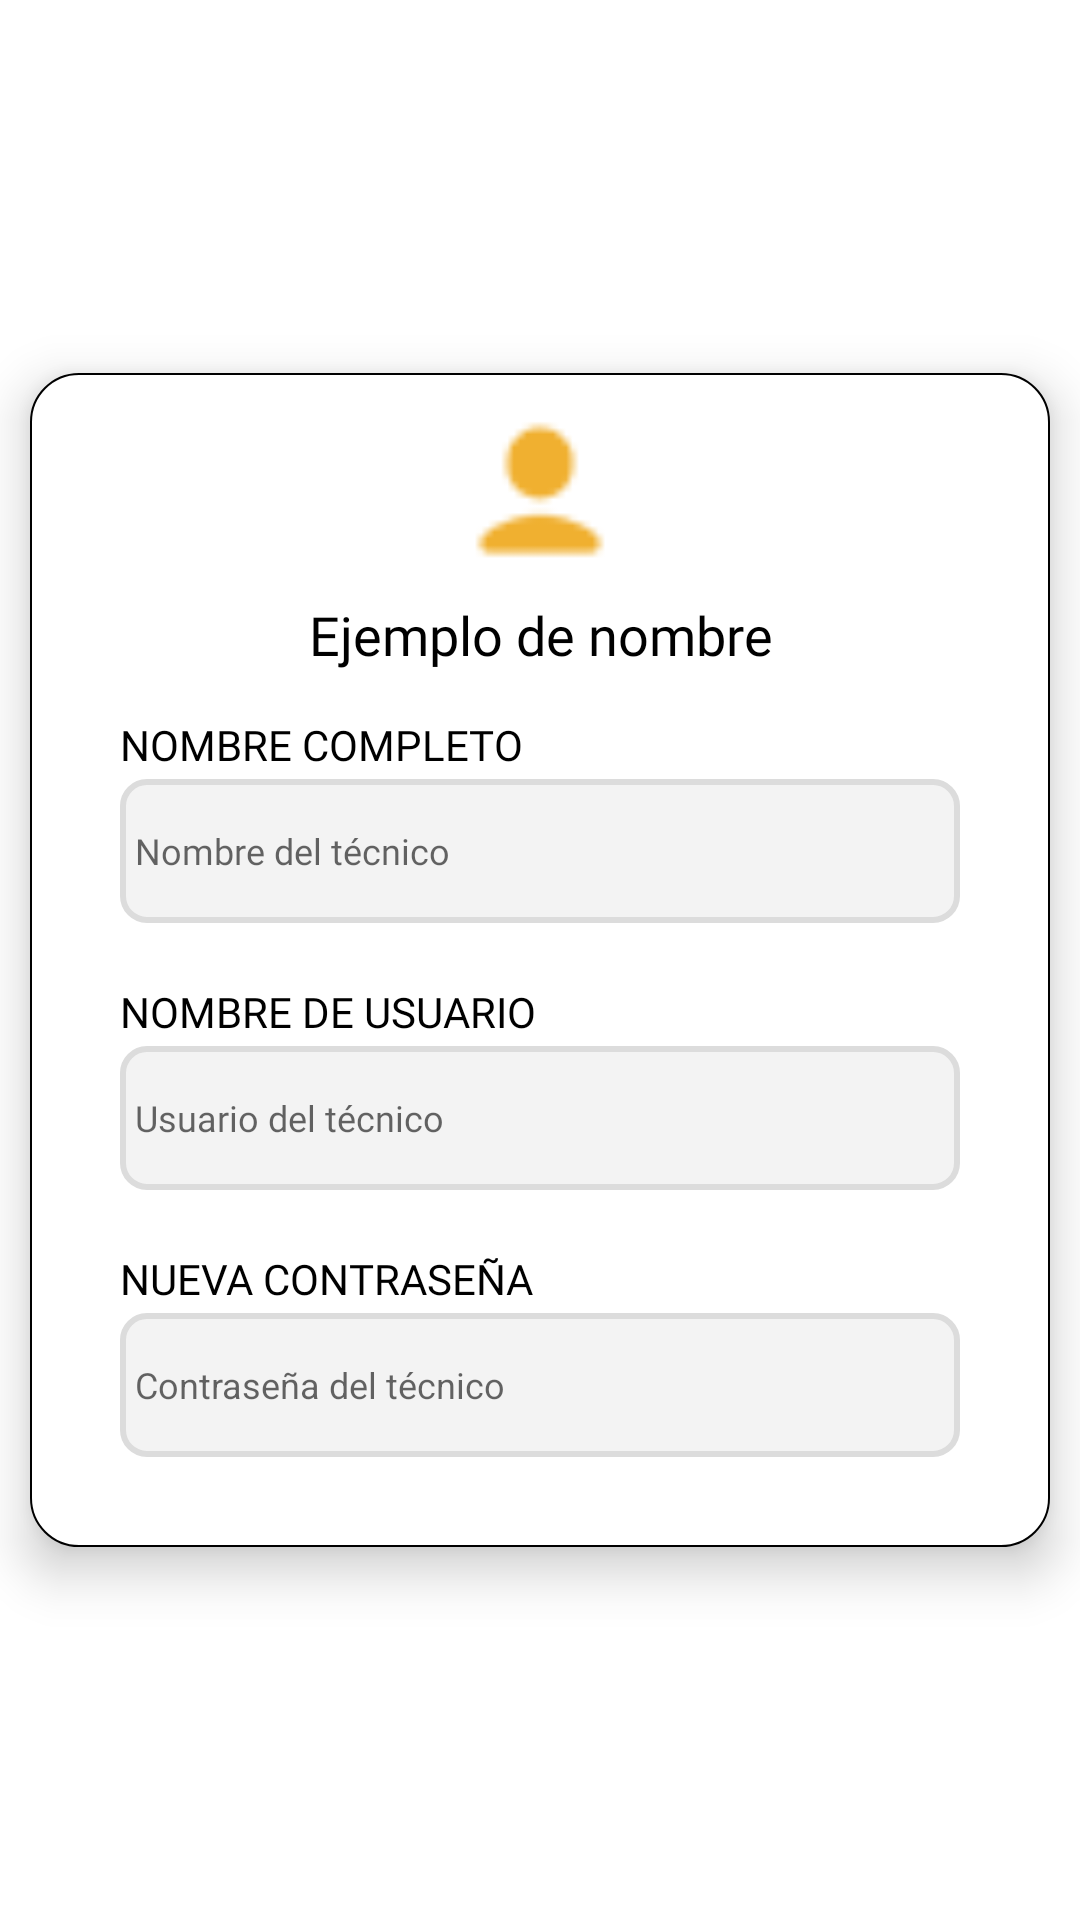

Screen size 1080px x 1920px. Icon name, then its center in pixels as (x=x, y=y):
perfil: (x=540, y=490)
